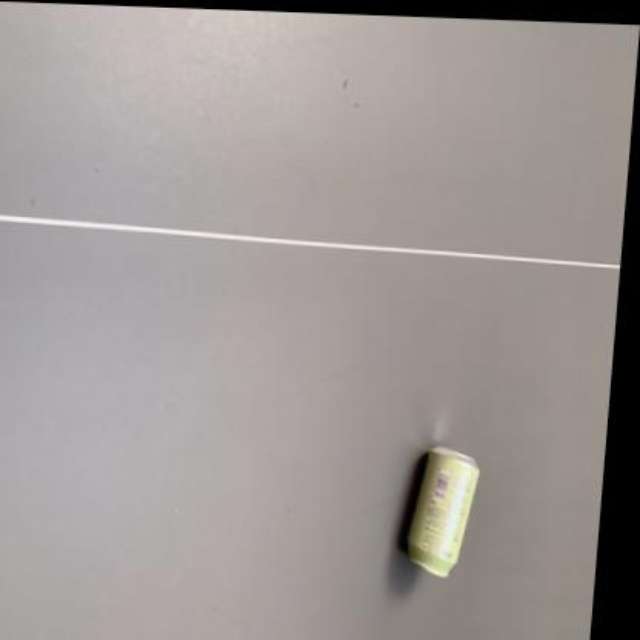trash: (408, 446, 478, 575)
